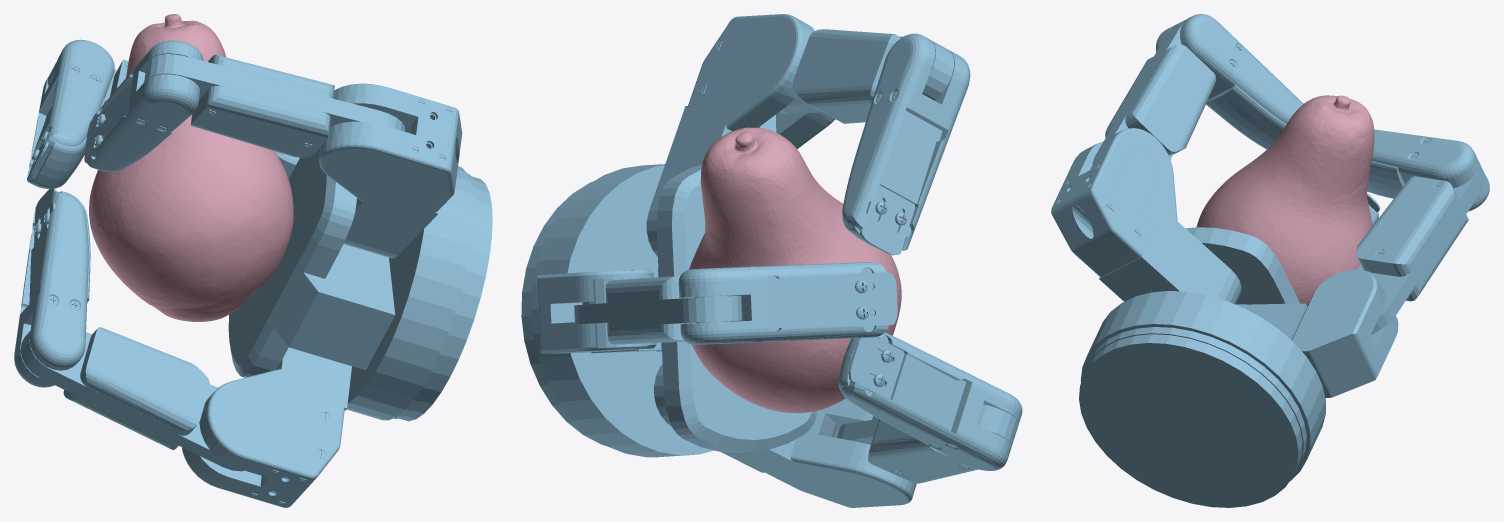
The picture shows the model from 3 angles, left to right: view 1: azimuth 30°, elevation 25°; view 2: azimuth 150°, elevation 25°; view 3: azimuth 270°, elevation 25°; orthographic projection. The views are drawn at different scales.
Parts seen in each view (by area): view 1: world; view 2: world; view 3: world.
Boxes of the visible parts, box(x1,y1,x2,y2) form: world: box(14, 14, 492, 507); world: box(521, 14, 1022, 507); world: box(1051, 14, 1489, 507).
Size of the model in its own units: 0.1685 by 0.173 by 0.1602.
